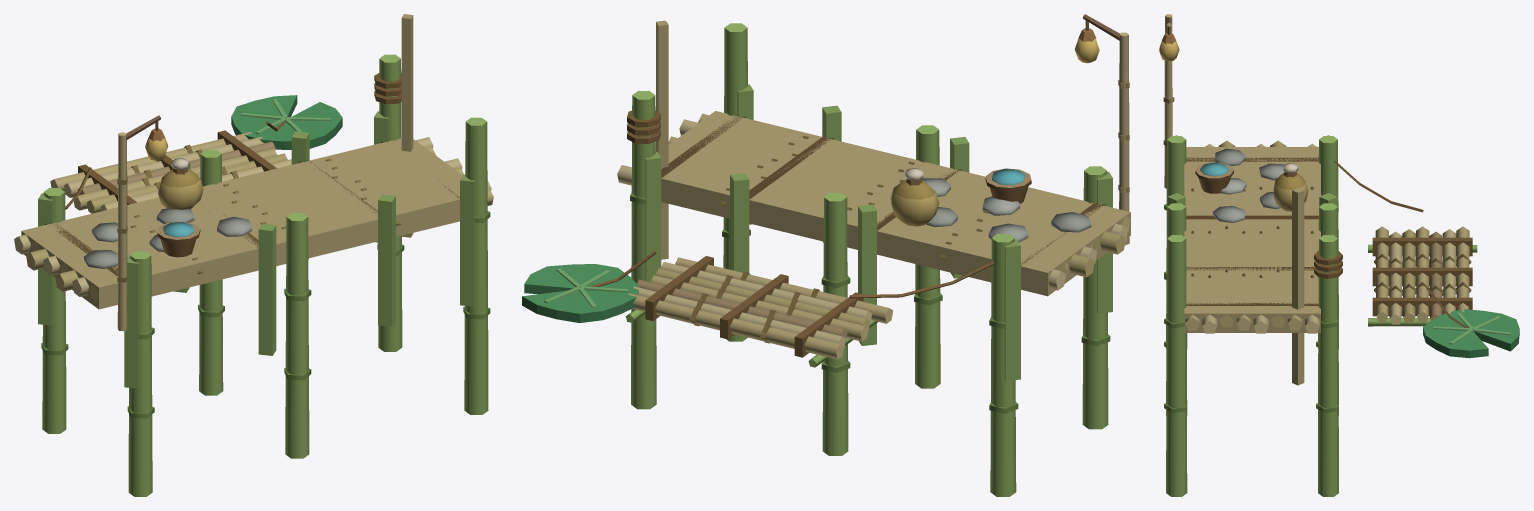
File: ferry_raft.glb
3 renders of one model, left to right at view 1: azimuth 30°, elevation 25°; view 2: azimuth 150°, elevation 25°; view 3: azimuth 270°, elevation 25°, orthographic. The views are drawn at different scales.
Parts seen in each view (by area): view 1: body, body__far, body_nh; view 2: body, body__far, body_nh; view 3: body, body__far, body_nh.
Part boxes in pixels (x1,y1,x2,y2): body: [14, 54, 493, 496]; body__far: [21, 14, 474, 388]; body_nh: [65, 99, 331, 209]; body: [522, 14, 1130, 496]; body__far: [645, 20, 1130, 380]; body_nh: [544, 20, 1088, 307]; body: [1159, 14, 1519, 496]; body__far: [1167, 135, 1337, 385]; body_nh: [1167, 26, 1511, 344].
Bounding box in the file's own units: 2.8 × 2.41 × 2.37.
